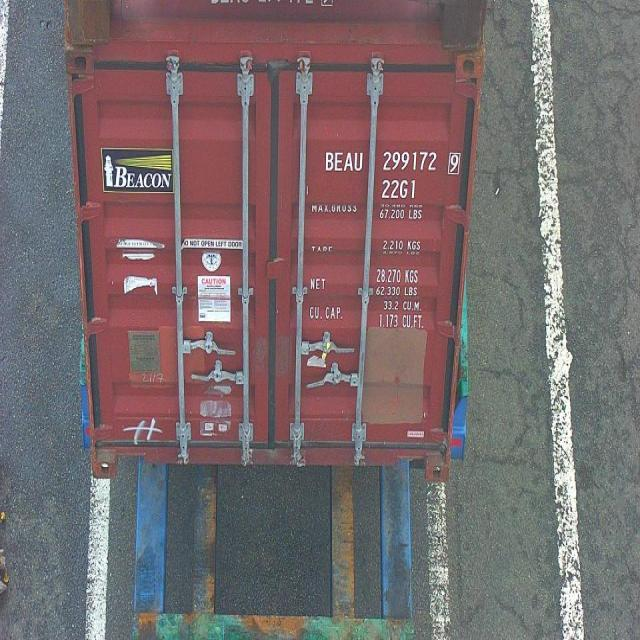ISO: (383, 178, 419, 200)
container_number: (325, 148, 463, 173)
